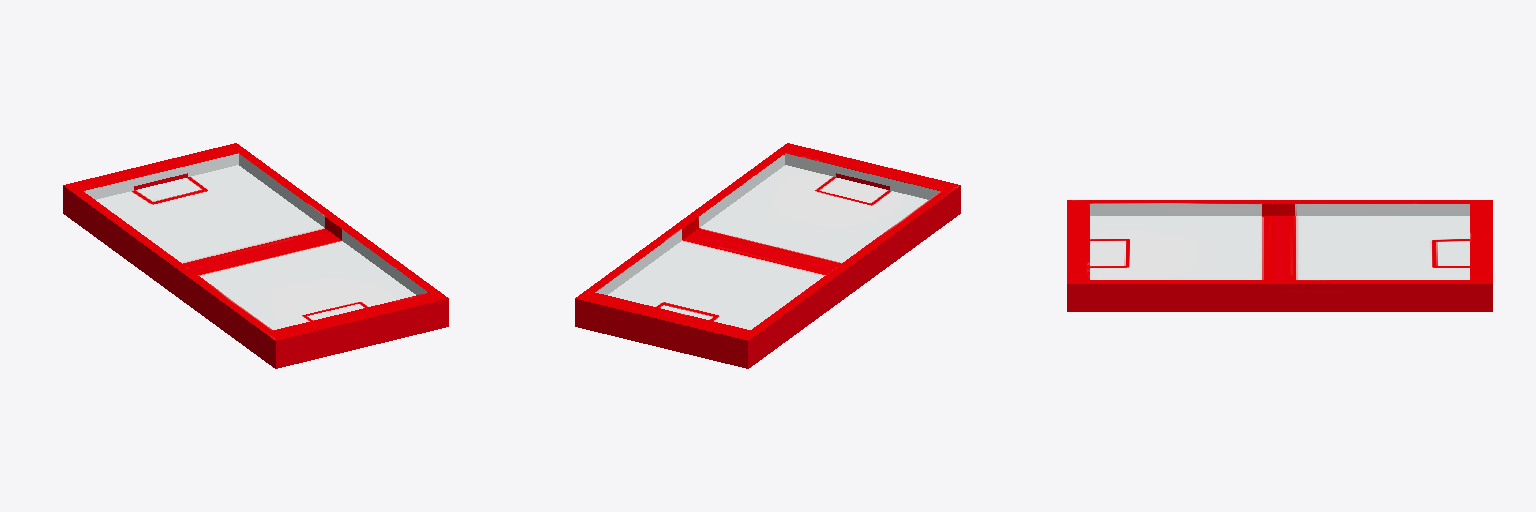
3 views of the same model, side by side, from view 1: azimuth 30°, elevation 25°; view 2: azimuth 150°, elevation 25°; view 3: azimuth 270°, elevation 25° (orthographic).
Parts seen in each view (by area): view 1: Cube; view 2: Cube; view 3: Cube.
Boxes of the visible parts, x1=… form: Cube: x1=63, y1=143, x2=448, y2=368; Cube: x1=575, y1=143, x2=960, y2=368; Cube: x1=1067, y1=200, x2=1492, y2=311.
Size of the model in its own units: 3.4 by 0.5304 by 7.22.
Materials: 1 (1 with a texture image).